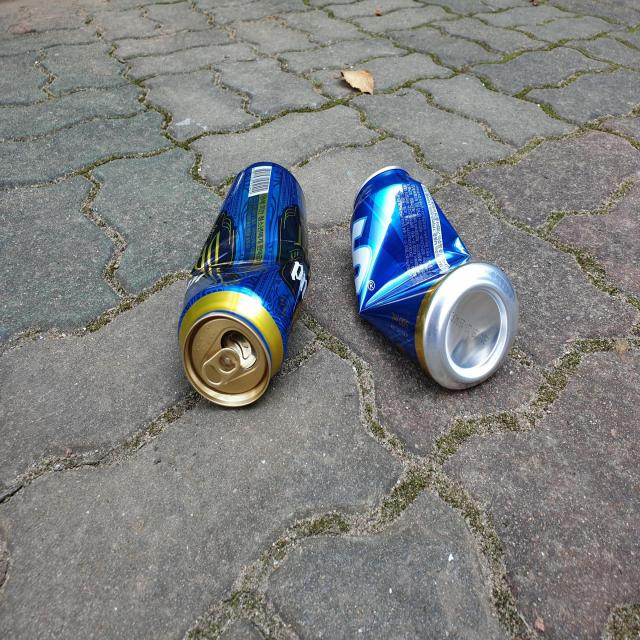can: (352, 166, 519, 389), (177, 160, 310, 407)
